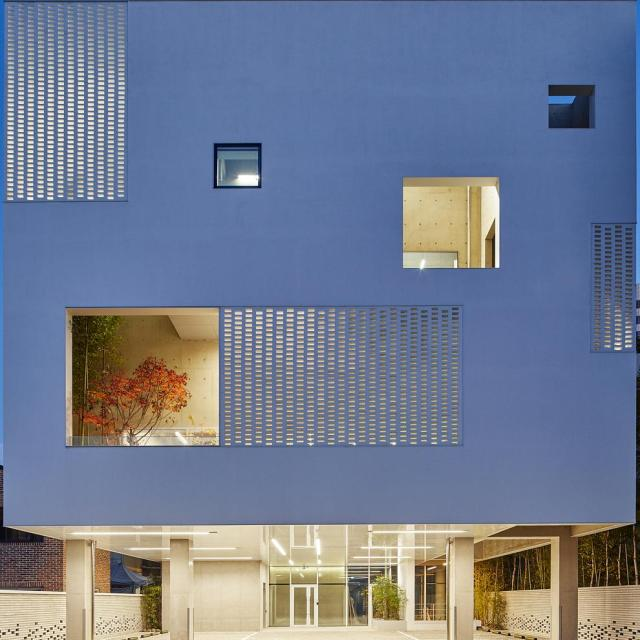door: (290, 583, 321, 631)
railing: (69, 436, 216, 447)
window: (270, 560, 374, 631), (215, 144, 259, 186)
